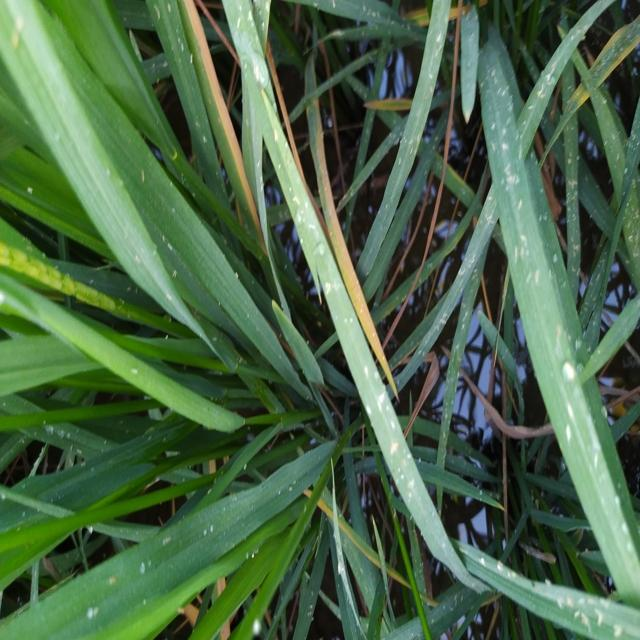Brown spot: (292, 68, 419, 408)
